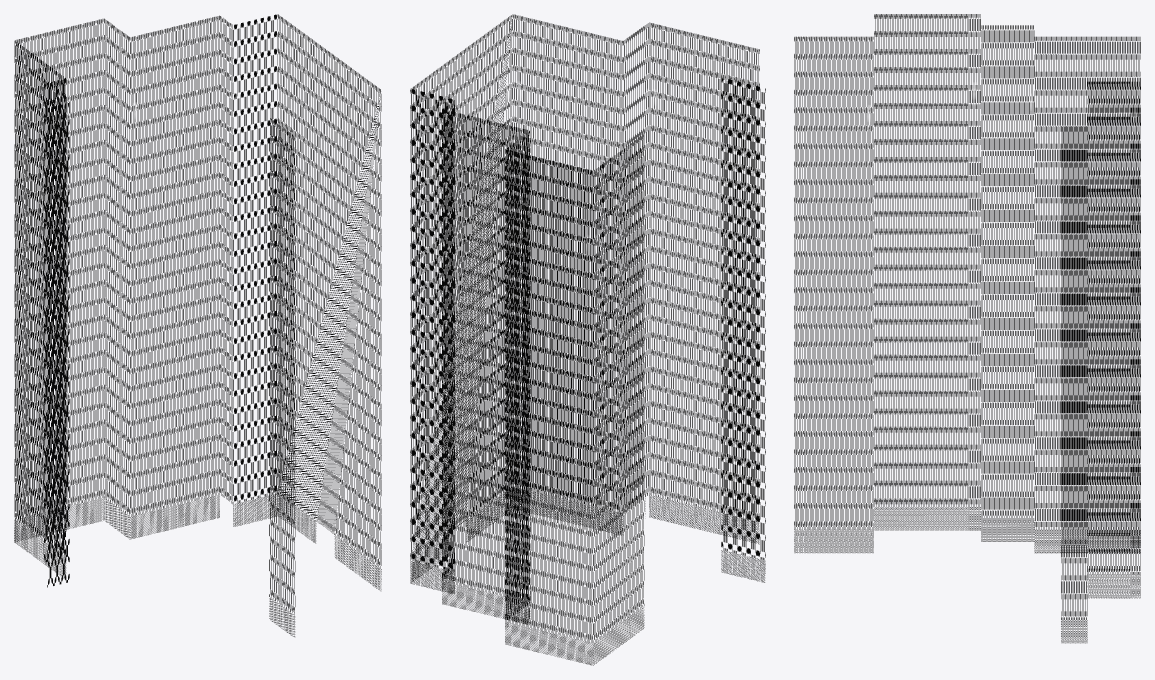
File: Nuclear City Collider.fbx
3 views of the same model, side by side, from view 1: azimuth 30°, elevation 25°; view 2: azimuth 150°, elevation 25°; view 3: azimuth 270°, elevation 25° (orthographic). The views are drawn at different scales.
Parts seen in each view (by area): view 1: Nuclear City Collider_0; view 2: Nuclear City Collider_0; view 3: Nuclear City Collider_0.
Boxes of the visible parts, x1,y1,x2,y2 form: Nuclear City Collider_0: (14,14,381,636); Nuclear City Collider_0: (410,14,765,665); Nuclear City Collider_0: (794,14,1140,643).
Size of the model in its own units: 112 by 200 by 121.
